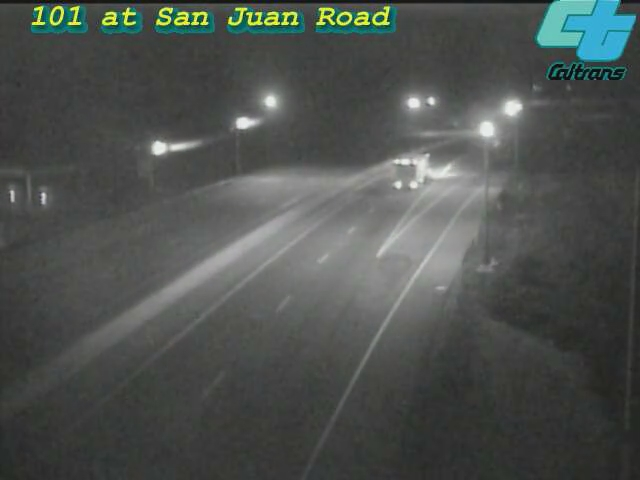vehicle: (375, 127, 455, 207), (460, 104, 510, 154), (485, 84, 535, 134)
